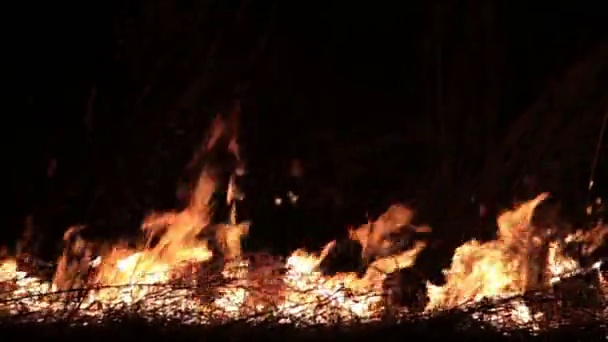fire: (421, 195, 579, 331), (80, 206, 248, 322), (279, 246, 385, 326), (1, 257, 62, 311)
